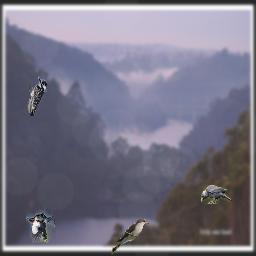Crow: (201, 185, 231, 204)
Cuckoo: (109, 219, 149, 255)
Woodpecker: (26, 207, 55, 243), (24, 76, 47, 116)
